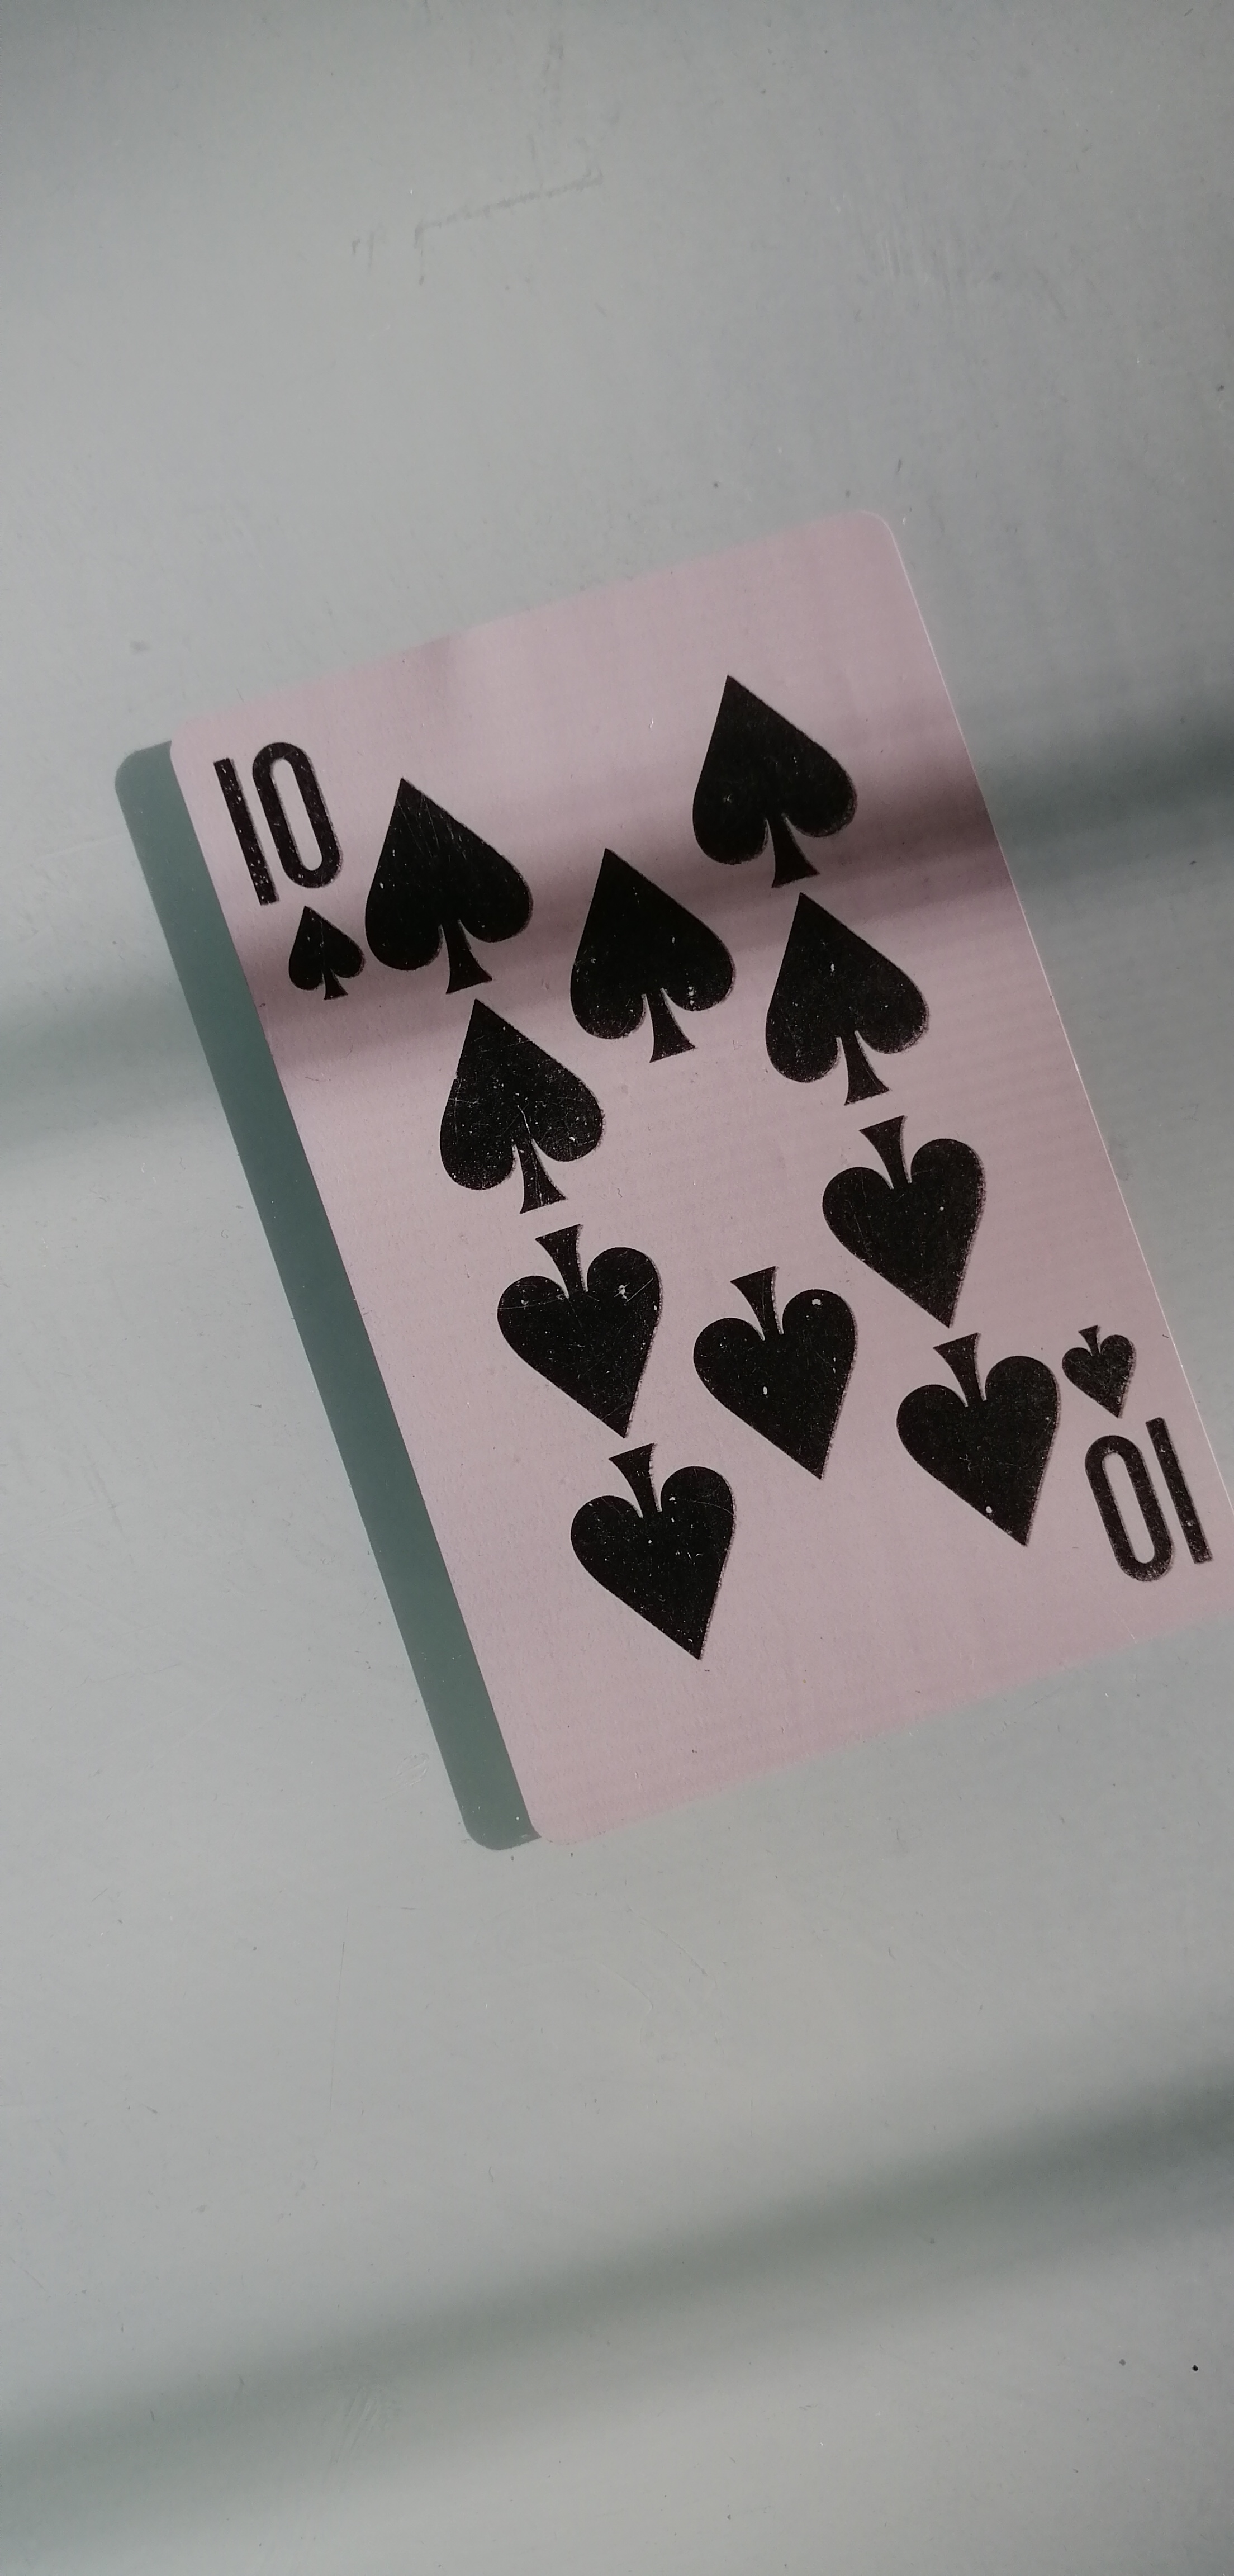ten: (85, 516, 1234, 1879)
